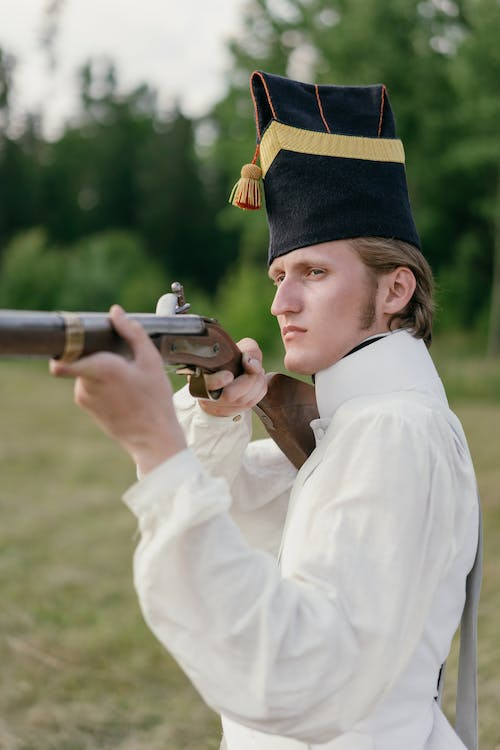gun: (0, 279, 321, 473)
